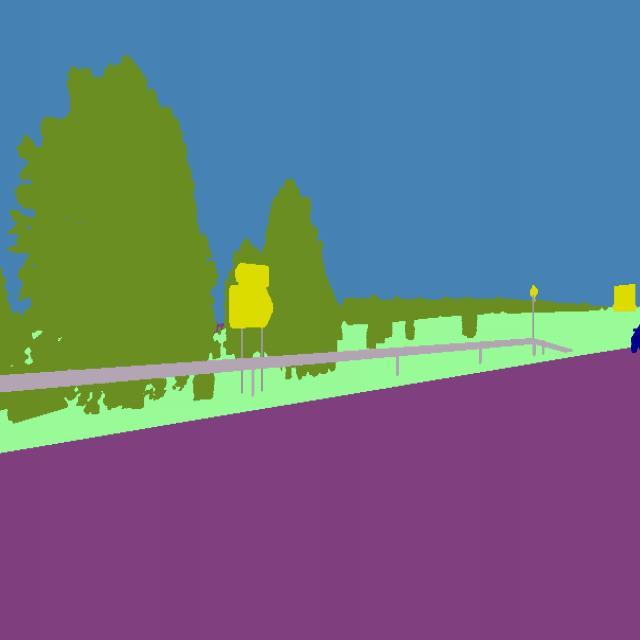safe: (629, 314, 640, 358)
